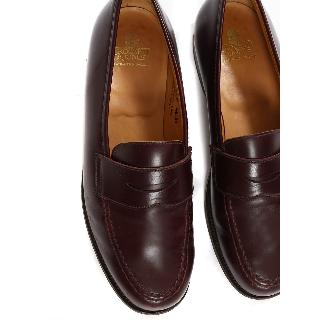loafers: (78, 0, 279, 318)
